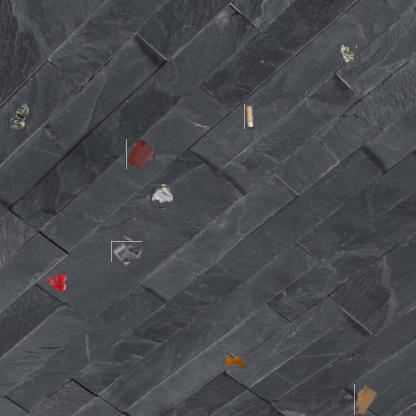dirty: (354, 383, 377, 415), (113, 238, 140, 264), (8, 102, 30, 130), (150, 186, 172, 208), (223, 352, 245, 370), (339, 42, 358, 62), (244, 103, 255, 129)
liquid: (126, 140, 154, 169), (45, 274, 69, 292)
